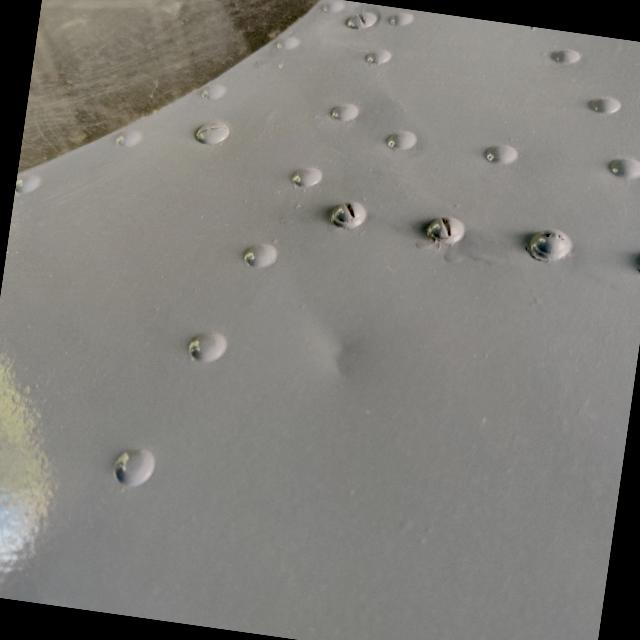dent: (300, 318, 380, 404)
